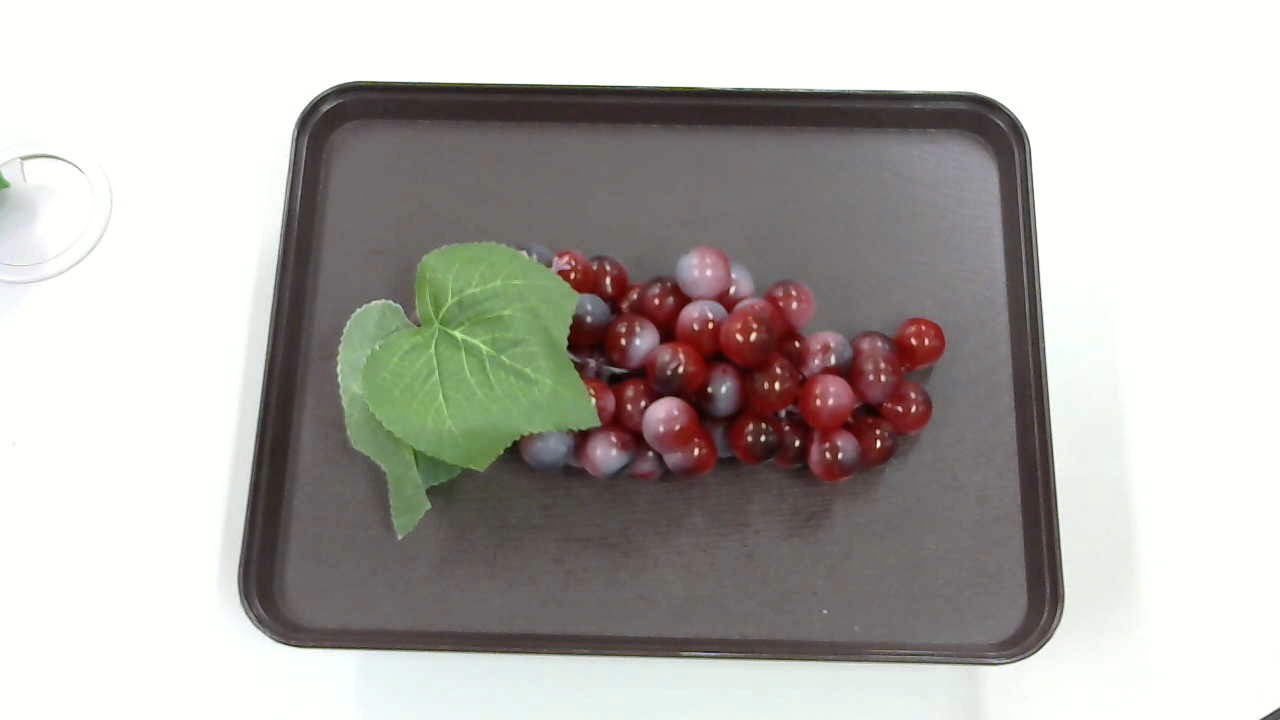grape: (327, 229, 951, 542)
